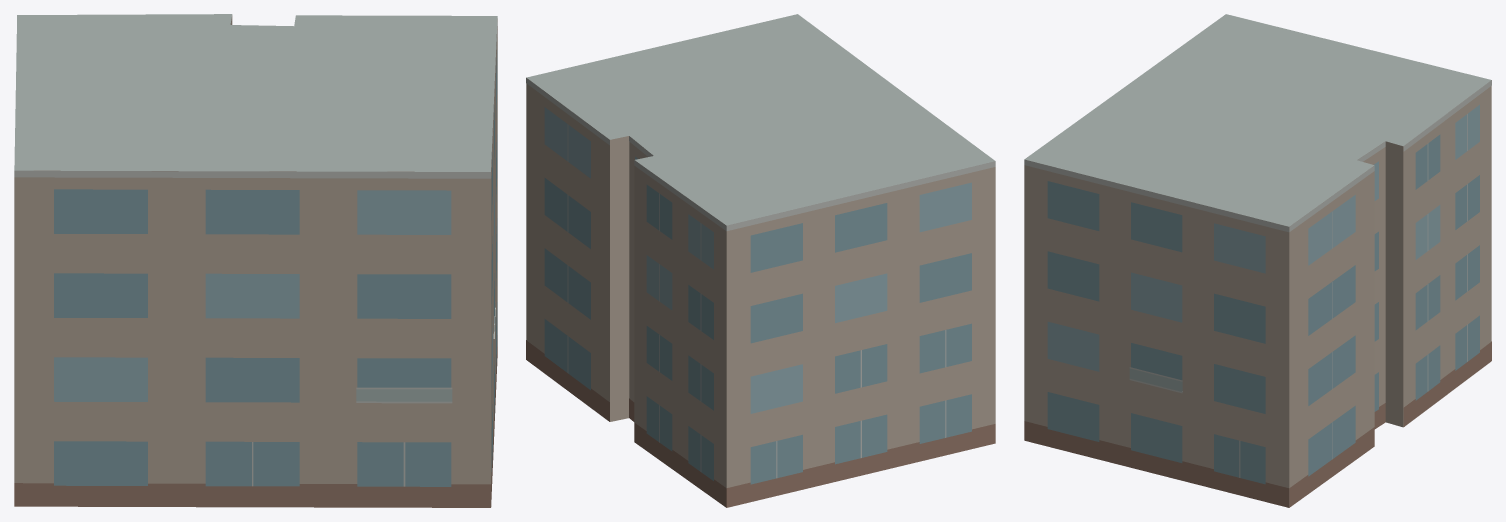
File: survey-upis-32709495.glb
The picture shows the model from 3 angles, left to right: view 1: azimuth 30°, elevation 25°; view 2: azimuth 150°, elevation 25°; view 3: azimuth 270°, elevation 25°; orthographic projection. The views are drawn at different scales.
Visible parts, largest first — view 1: survey-upis-32709495.tmp; view 2: survey-upis-32709495.tmp; view 3: survey-upis-32709495.tmp.
Part boxes in pixels (box(x1,y1,x2,y2)): survey-upis-32709495.tmp: box(14, 14, 497, 507); survey-upis-32709495.tmp: box(526, 14, 995, 507); survey-upis-32709495.tmp: box(1024, 14, 1491, 507).
Bounding box in the file's own units: 19.81 × 12.2 × 18.39.
